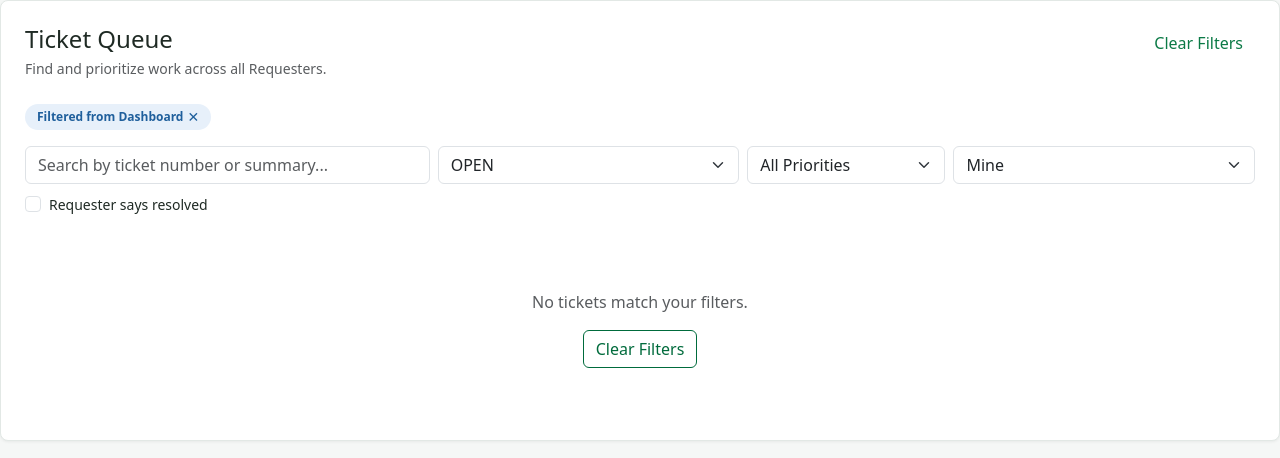
Test: Drill-down filters (UI-05) › UI-05: the chip disappears as soon as the filters no longer match the dashboard link (PR #73 review)
The image size is (1280, 458).
Expected: the text "Filtered from Dashboard" is shown, [37, 108, 184, 126]
Select "All Statuses" in the dropdown named "Filter by status": (588, 165) [438, 146, 739, 184]
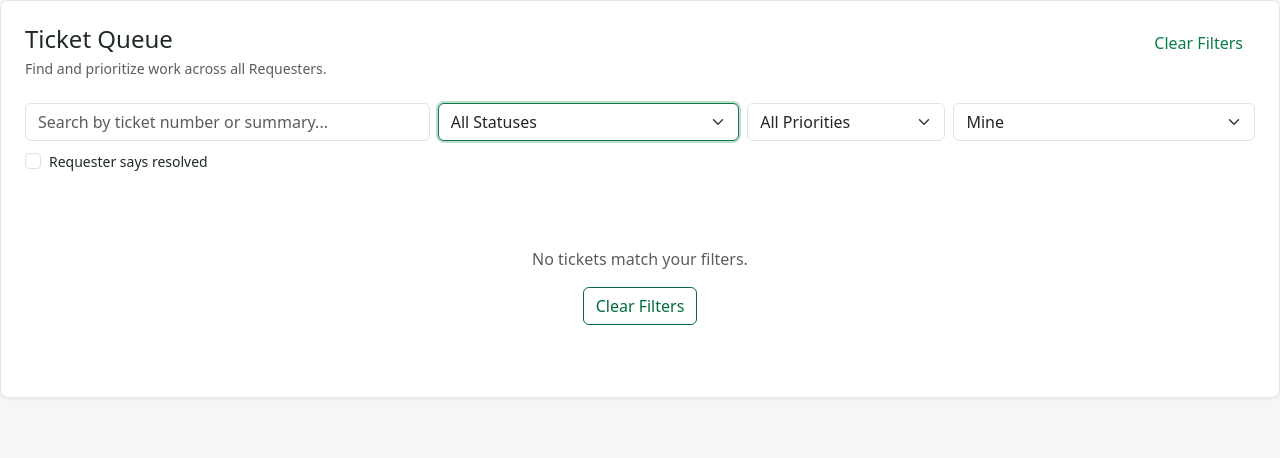
Now the text "Filtered from Dashboard" is gone
